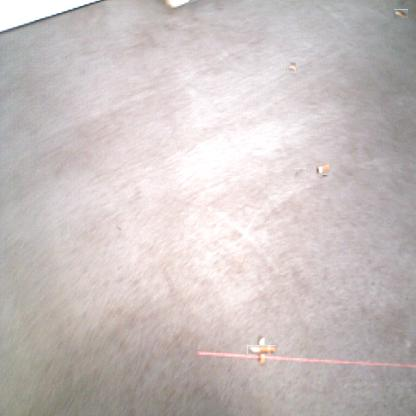dirty: (252, 340, 271, 359), (316, 162, 330, 176), (394, 9, 408, 18), (286, 61, 296, 73)
mark: (295, 168, 306, 179), (113, 224, 122, 232)
